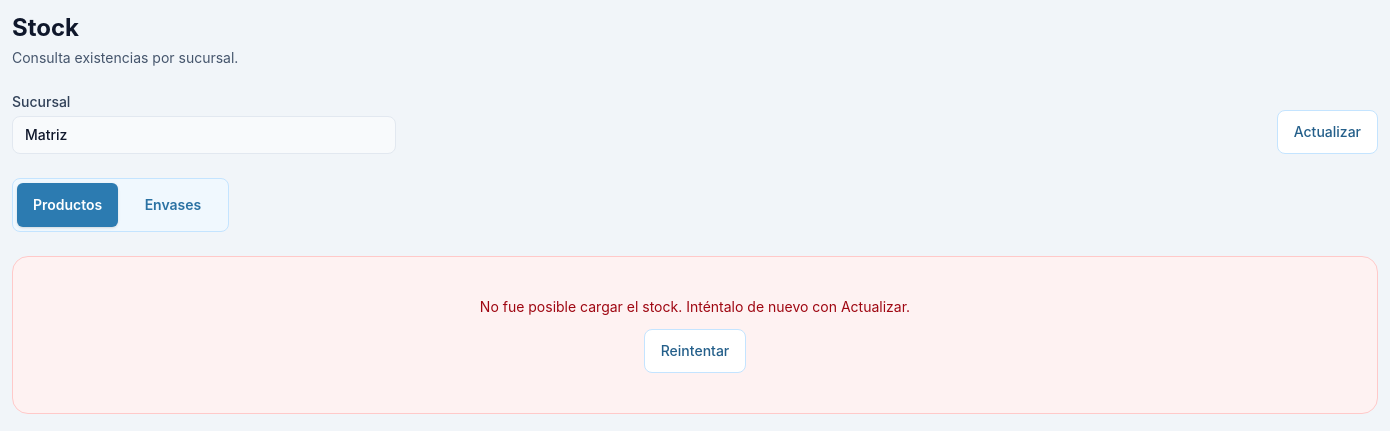
FE-05 / FE-06 · lectura de stock › muestra error de stock y permite recuperar la lectura con Actualizar
The width and height of the screenshot is (1390, 431).
Expected: the message shows "No fue posible cargar el stock", [480,298,910,315]
Click the button "Actualizar". click: (1327, 132)
box: [1277,110,1378,154]
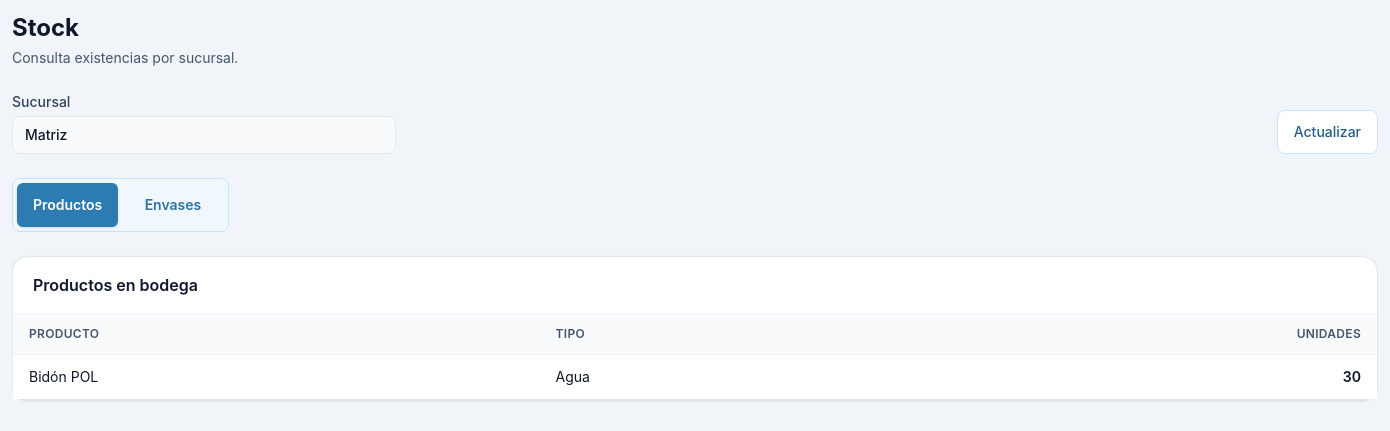
Expected: the text "30" is shown, [881,354,1377,399]
Expected: the message "No fue posible cargar el stock. Inténtalo de nuevo con Actualizar. Reintentar" is gone
